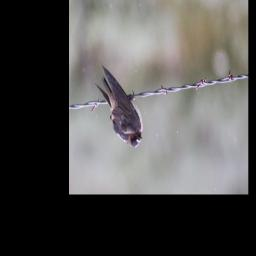Swallow: (94, 64, 144, 149)
